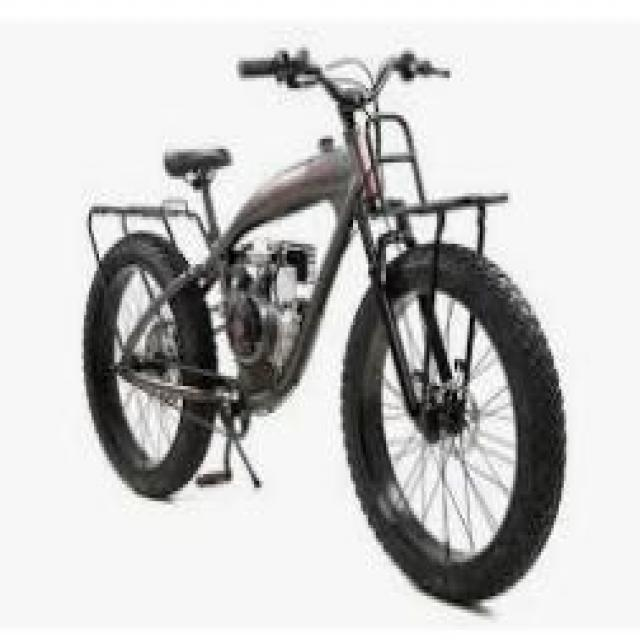bicycle: (85, 28, 553, 580)
